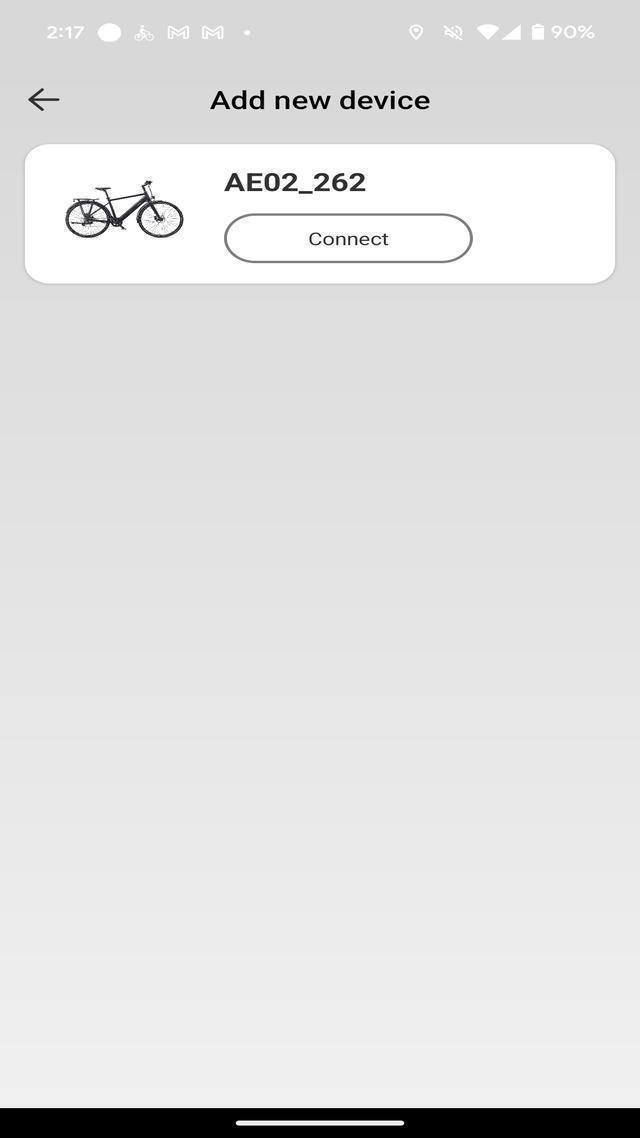Icon: (28, 88, 62, 118), (164, 22, 192, 47), (200, 23, 229, 46), (98, 20, 121, 46), (476, 22, 502, 44), (438, 24, 468, 43), (132, 23, 156, 46), (503, 23, 525, 43), (408, 24, 426, 46), (529, 21, 547, 43), (239, 26, 254, 41)
Image: (45, 172, 188, 248)
Text: (204, 82, 436, 116), (221, 166, 374, 196), (296, 228, 404, 252), (36, 16, 86, 46), (550, 22, 598, 42)
TextButton: (224, 212, 477, 266)
